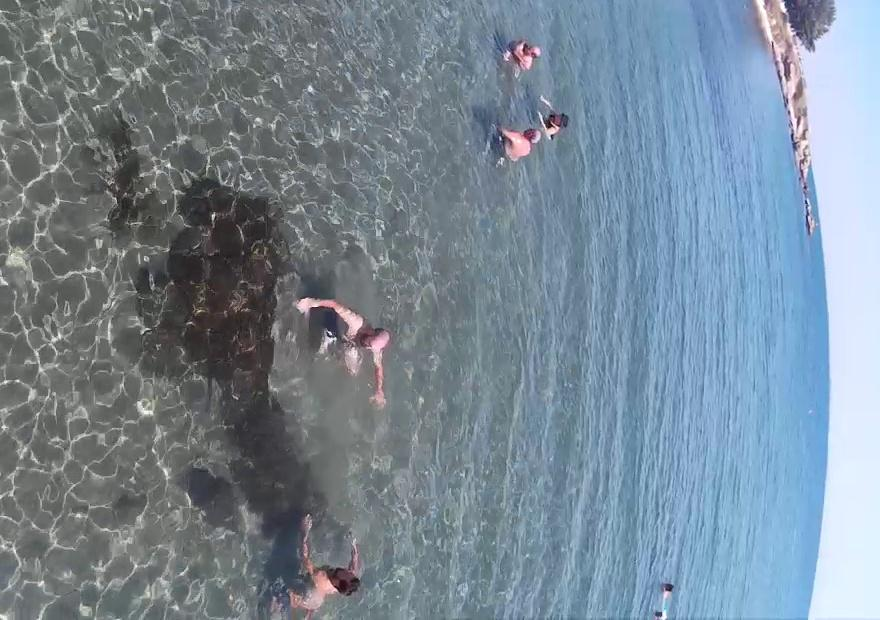swimmer: (298, 268, 384, 434), (495, 112, 538, 184), (529, 98, 575, 146), (502, 34, 544, 84), (0, 1, 0, 1)
